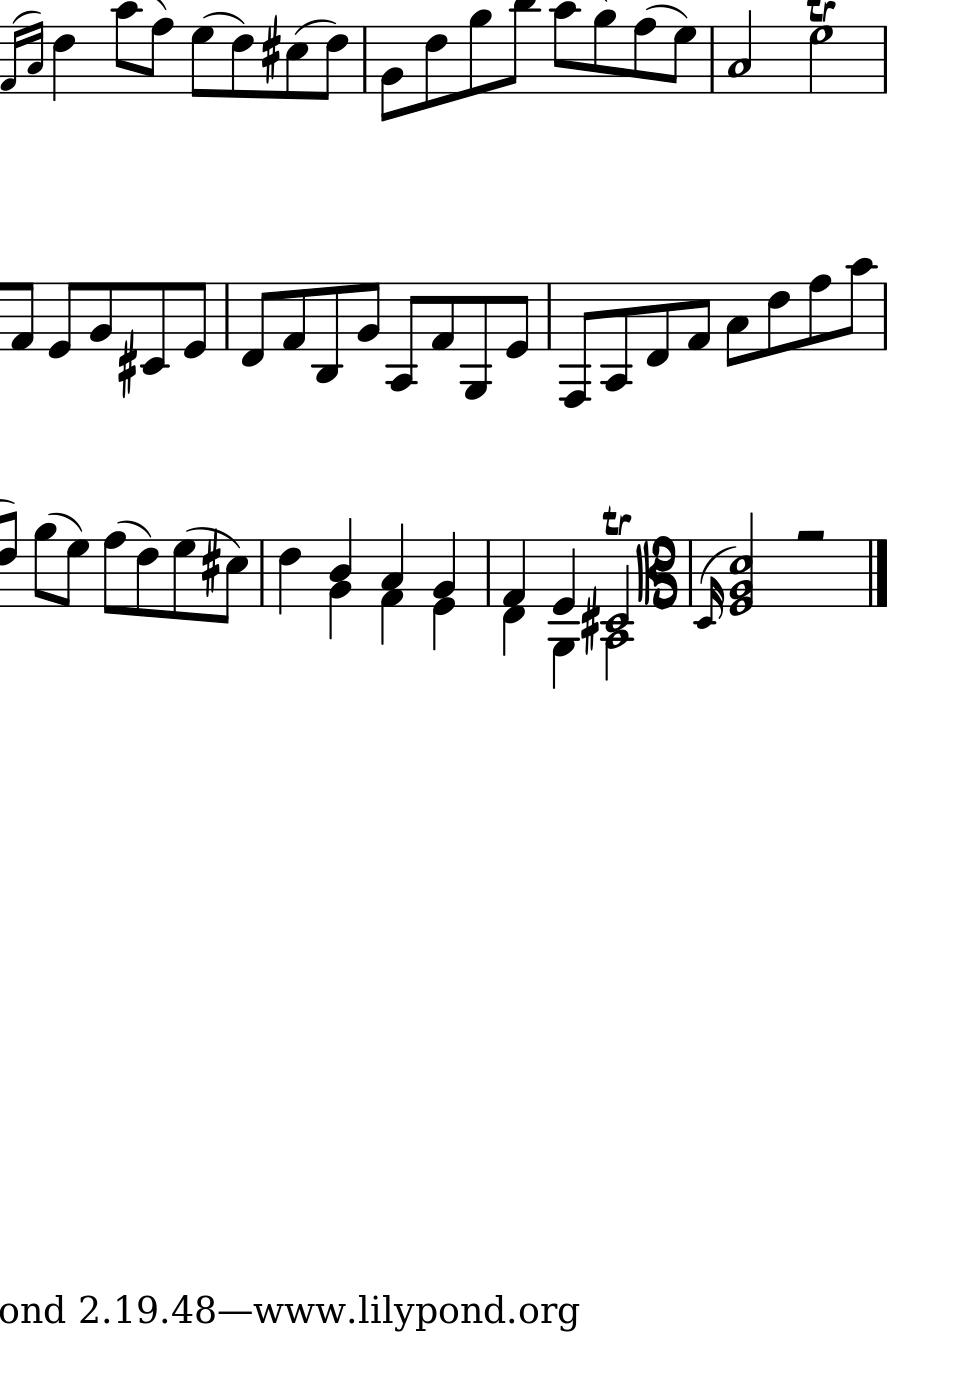16_3: (25, 19, 43, 97)
2_-4_-2: (601, 537, 635, 680)
2_3: (727, 11, 752, 97)
2_7: (807, 27, 833, 97)
4_-1_1: (501, 537, 527, 655)
4_-5_0: (552, 537, 577, 692)
4_0_2: (431, 531, 458, 653)
4_1_3: (378, 522, 405, 646)
4_2_4: (328, 517, 353, 641)
4_6: (50, 24, 75, 102), (279, 538, 302, 614)
8_-1: (238, 281, 272, 369), (644, 280, 671, 369)
8_-2: (140, 279, 169, 376)
8_-3: (311, 281, 343, 386)
8_-4: (384, 280, 420, 393), (600, 279, 631, 393)
8_-5: (459, 281, 492, 402)
8_-6: (558, 280, 592, 409)
8_0: (45, 281, 78, 361), (503, 280, 531, 359), (180, 280, 208, 359)
8_1: (428, 281, 455, 353), (280, 280, 307, 351), (8, 281, 34, 353), (685, 281, 711, 353)
8_10: (843, 256, 874, 353), (111, 1, 139, 95), (550, 1, 578, 95)
8_2: (378, 24, 404, 122), (87, 280, 113, 352), (354, 280, 380, 354)
8_3: (723, 281, 749, 370)
8_5: (220, 538, 249, 624), (284, 25, 309, 102)
8_6: (317, 25, 349, 101), (134, 536, 159, 619), (422, 24, 447, 110), (765, 281, 789, 358), (229, 25, 253, 100)
8_7: (666, 24, 696, 95), (172, 538, 196, 622), (60, 537, 90, 606), (189, 24, 214, 99)
8_8: (142, 17, 174, 97), (103, 529, 126, 617), (631, 17, 657, 95), (806, 274, 830, 353)
8_9: (591, 8, 617, 95), (466, 8, 491, 98), (33, 522, 56, 608)
Cclef: (635, 536, 679, 612)
Final_barline: (863, 538, 891, 608)
Rests2: (792, 524, 829, 546)
Sharp: (579, 585, 600, 657), (116, 331, 137, 398), (198, 531, 220, 598), (260, 20, 280, 83)
Single_barline: (540, 283, 557, 350), (253, 541, 270, 606), (876, 25, 892, 93), (480, 539, 496, 604), (682, 540, 698, 606), (218, 284, 234, 349), (357, 27, 372, 93), (878, 282, 892, 350)
Slur: (185, 524, 242, 549), (47, 512, 84, 533), (293, 18, 335, 36), (115, 519, 153, 538), (646, 2, 688, 19), (202, 8, 246, 24), (10, 8, 41, 24), (143, 1, 171, 11)
Trill: (599, 502, 633, 537)
